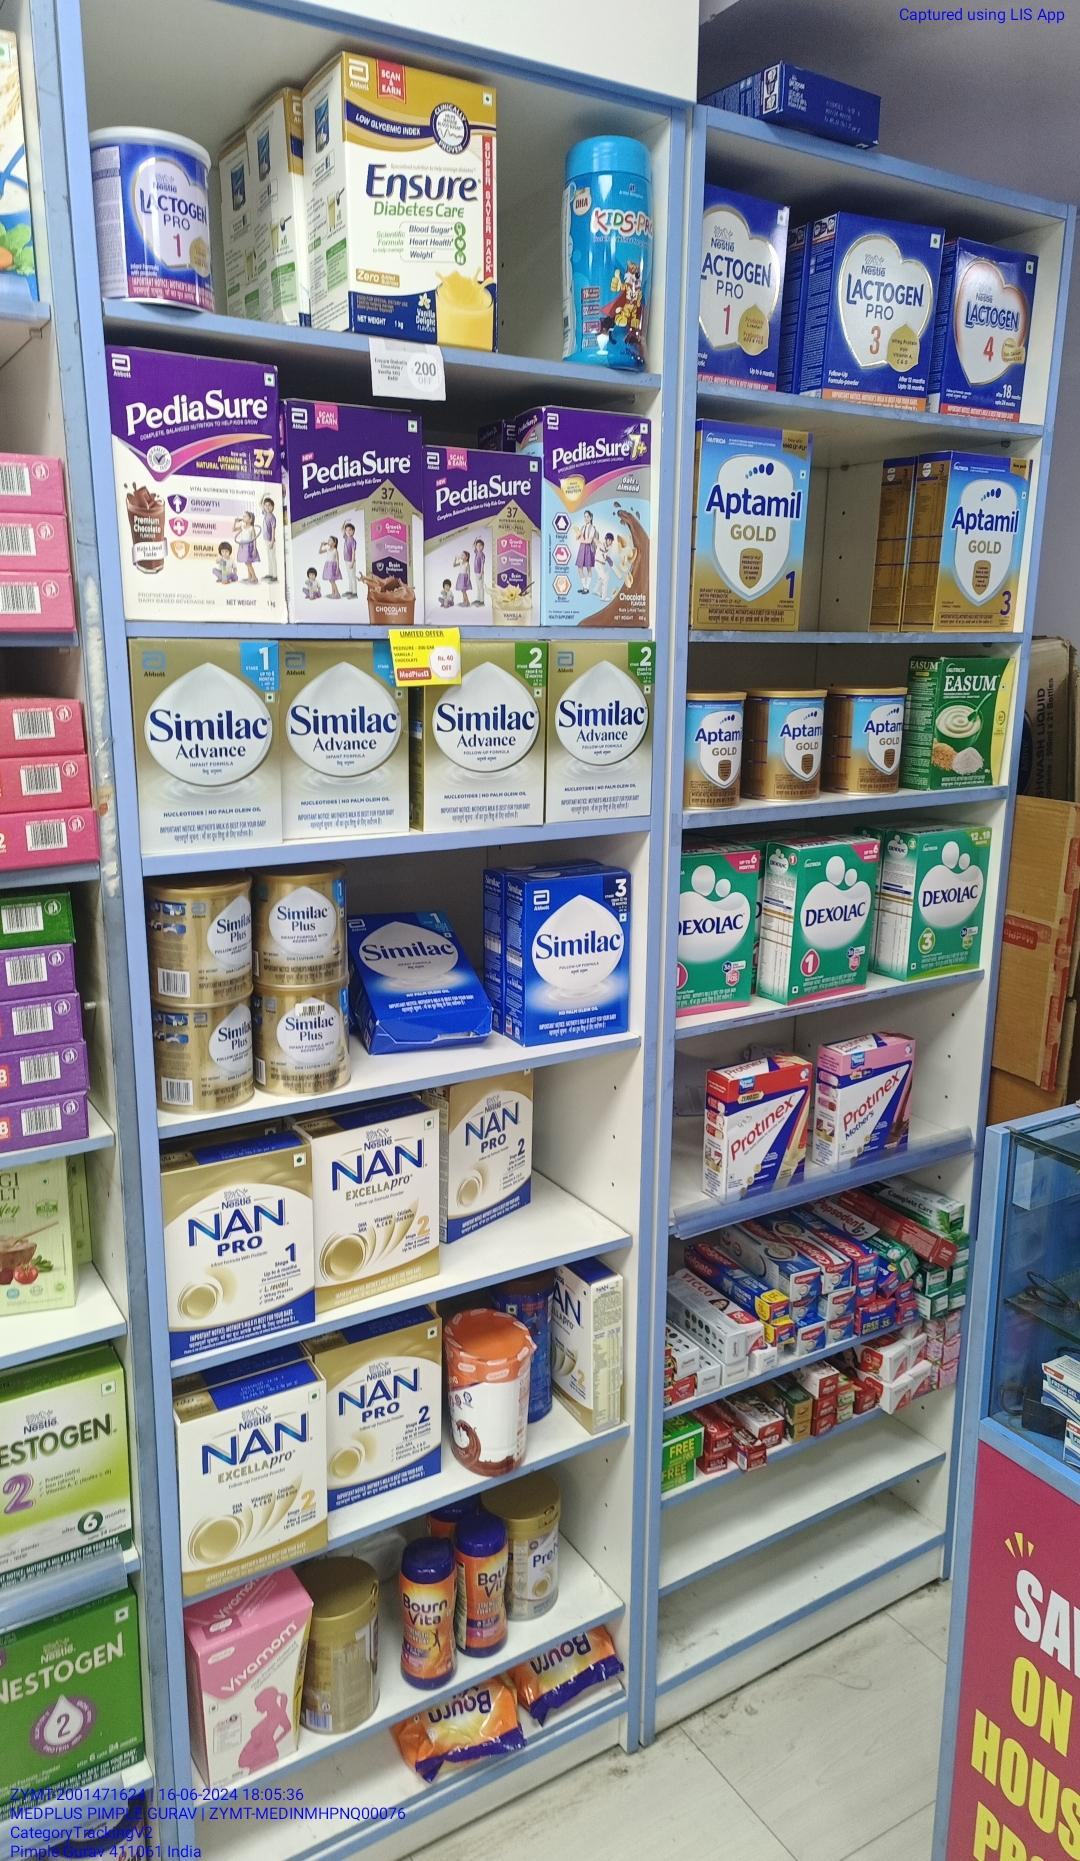PEDIASURE_CHOCOLATE_500_G_PACK: (288, 402, 424, 622)
PEDIASURE_VANILLA_500_G_PACK: (428, 445, 541, 623)
